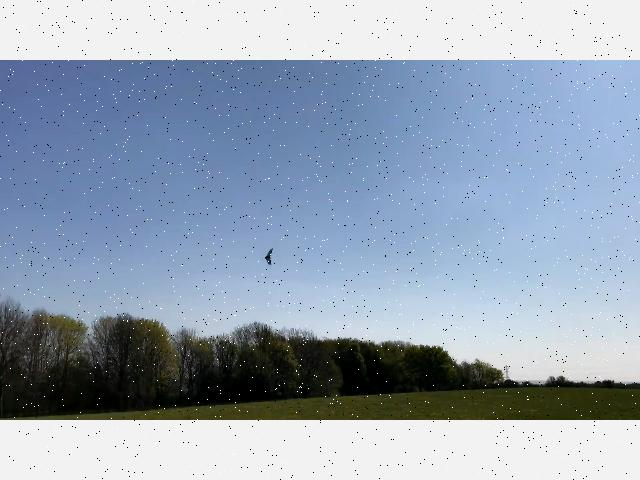Anti-Drone: (255, 245, 285, 271)
